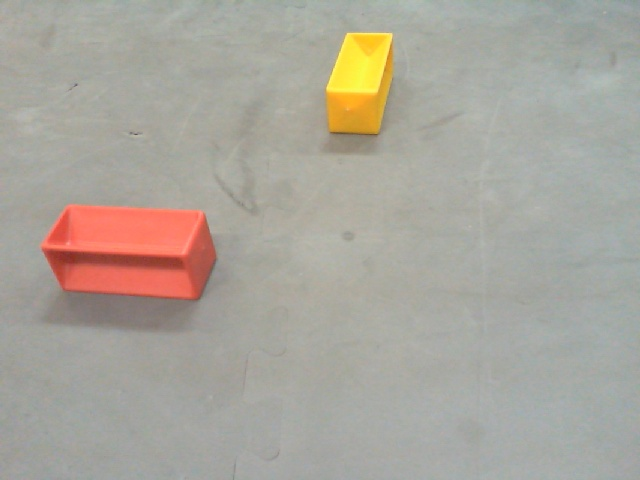RedSample: (41, 204, 218, 302)
YellowSample: (324, 27, 396, 138)
